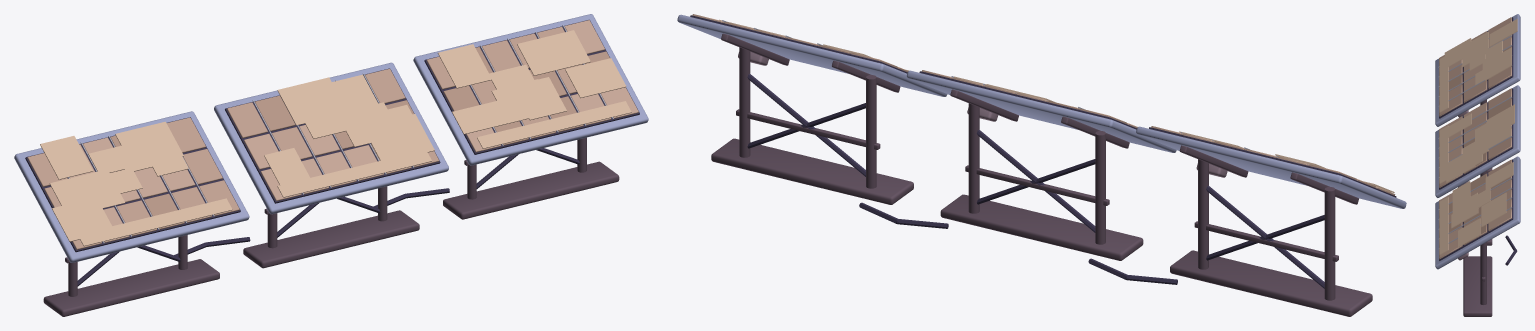
File: solar_row_dusty.glb
3 renders of one model, left to right at view 1: azimuth 30°, elevation 25°; view 2: azimuth 150°, elevation 25°; view 3: azimuth 270°, elevation 25°, orthographic. The views are drawn at different scales.
Visible parts, largest first — view 1: solar_row_dusty; view 2: solar_row_dusty; view 3: solar_row_dusty.
Part boxes in pixels (x1,y1,x2,y2): solar_row_dusty: [14, 14, 648, 316]; solar_row_dusty: [677, 14, 1406, 316]; solar_row_dusty: [1435, 14, 1520, 316].
Bounding box in the file's own units: 8.4 × 1.99 × 1.47.
